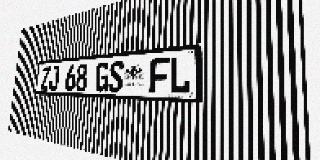6: (65, 64, 77, 91)
8: (75, 63, 88, 91)
F: (149, 57, 169, 94)
G: (95, 62, 110, 92)
J: (48, 66, 60, 90)
L: (169, 55, 191, 94)
S: (108, 61, 124, 92)
Z: (40, 66, 51, 90)
